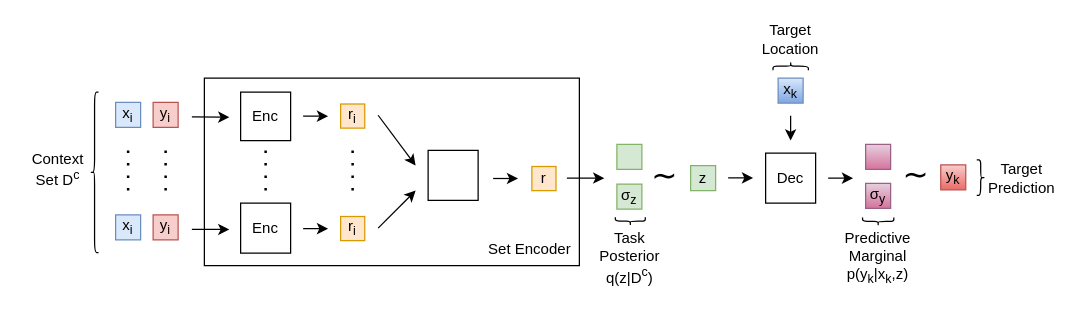
This 1078x318 diagram has some shape labels left out. The centre of each missing label's shape, as x and y in pixels:
"Aggr" belongs at pixel 452 174.
"μ y" belongs at pixel 877 156.
"μ z" belongs at pixel 629 156.
